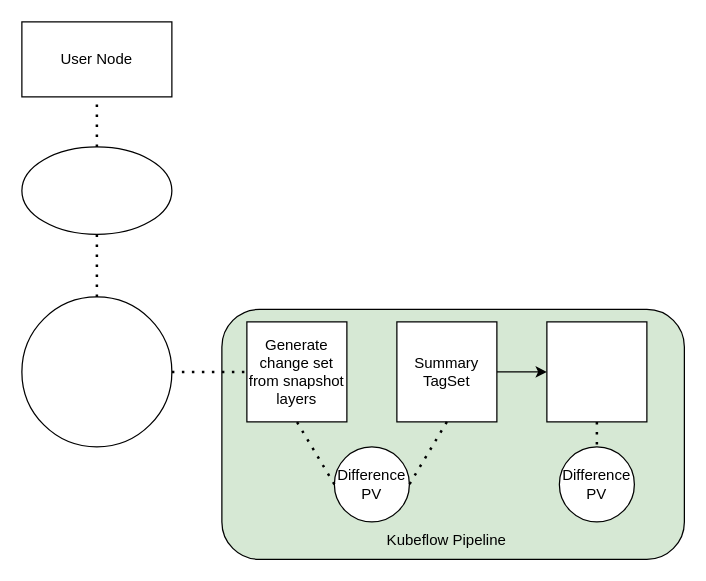
The diagram is 706 pixels wide and 581 high, and some of its shapes have lost their labels. Here are the shapes that lost their labels. From the top down, the centre of each, then its label:
the point at 96,190: Image Storage or Infrastructure Stack
the point at 96,371: Snapshot Disk
the point at 596,371: Feed Model to Predict
